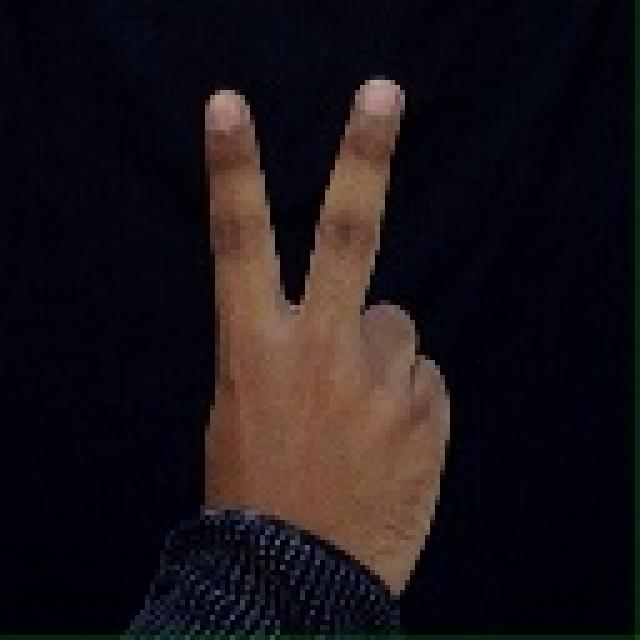V: (61, 43, 556, 587)
